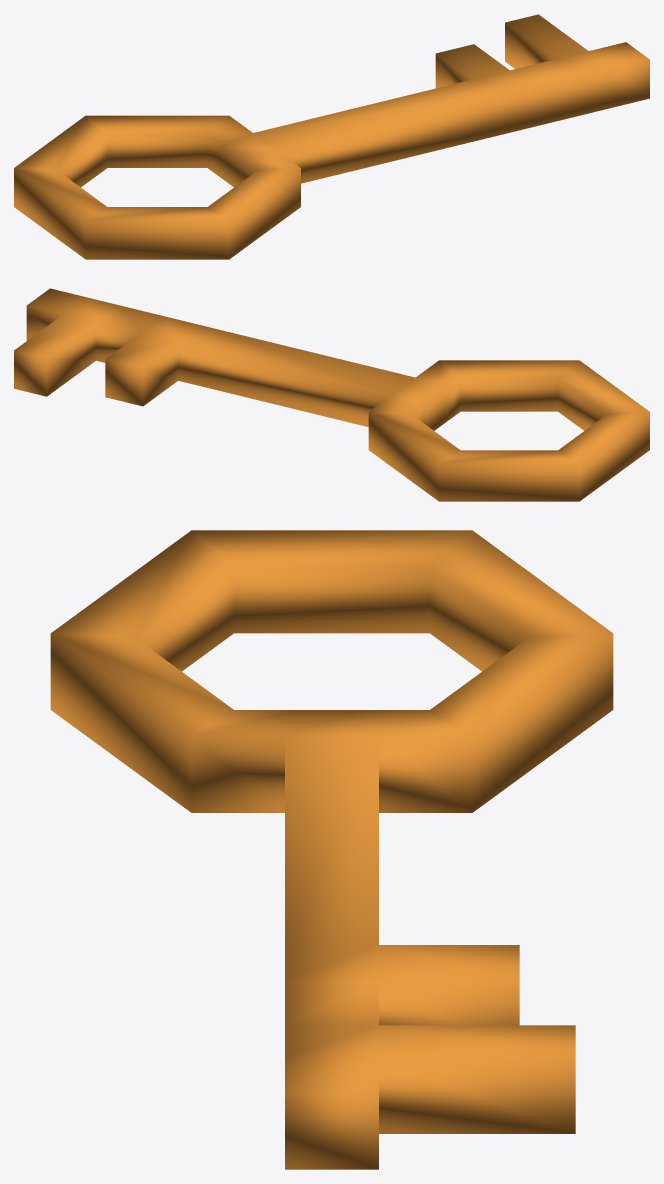
Rendered from Key.glb.
The picture shows the model from 3 angles, top to bottom: view 1: azimuth 30°, elevation 25°; view 2: azimuth 150°, elevation 25°; view 3: azimuth 270°, elevation 25°; orthographic projection. The views are drawn at different scales.
Visible parts, largest first — view 1: Key; view 2: Key; view 3: Key.
Boxes of the visible parts, <box> form: Key: <box>14,14,649,259</box>; Key: <box>14,288,649,501</box>; Key: <box>50,530,613,1169</box>.
Size of the model in its own units: 4.73 by 0.3 by 2.
